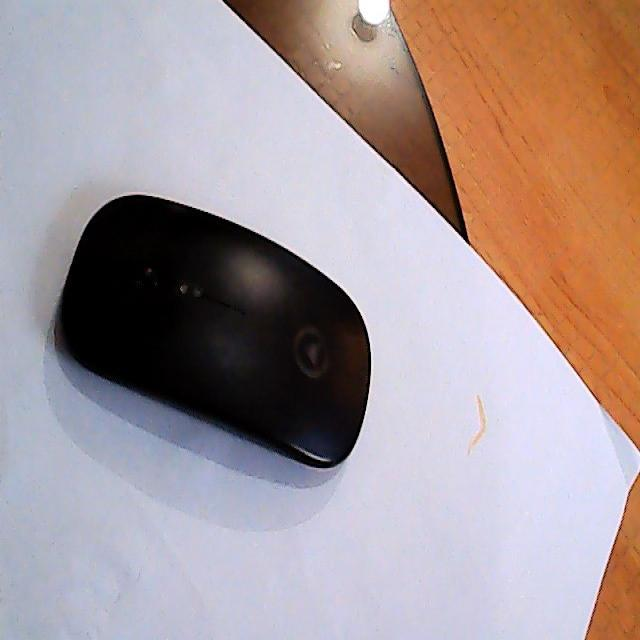-keyboard-: (56, 191, 374, 472)
